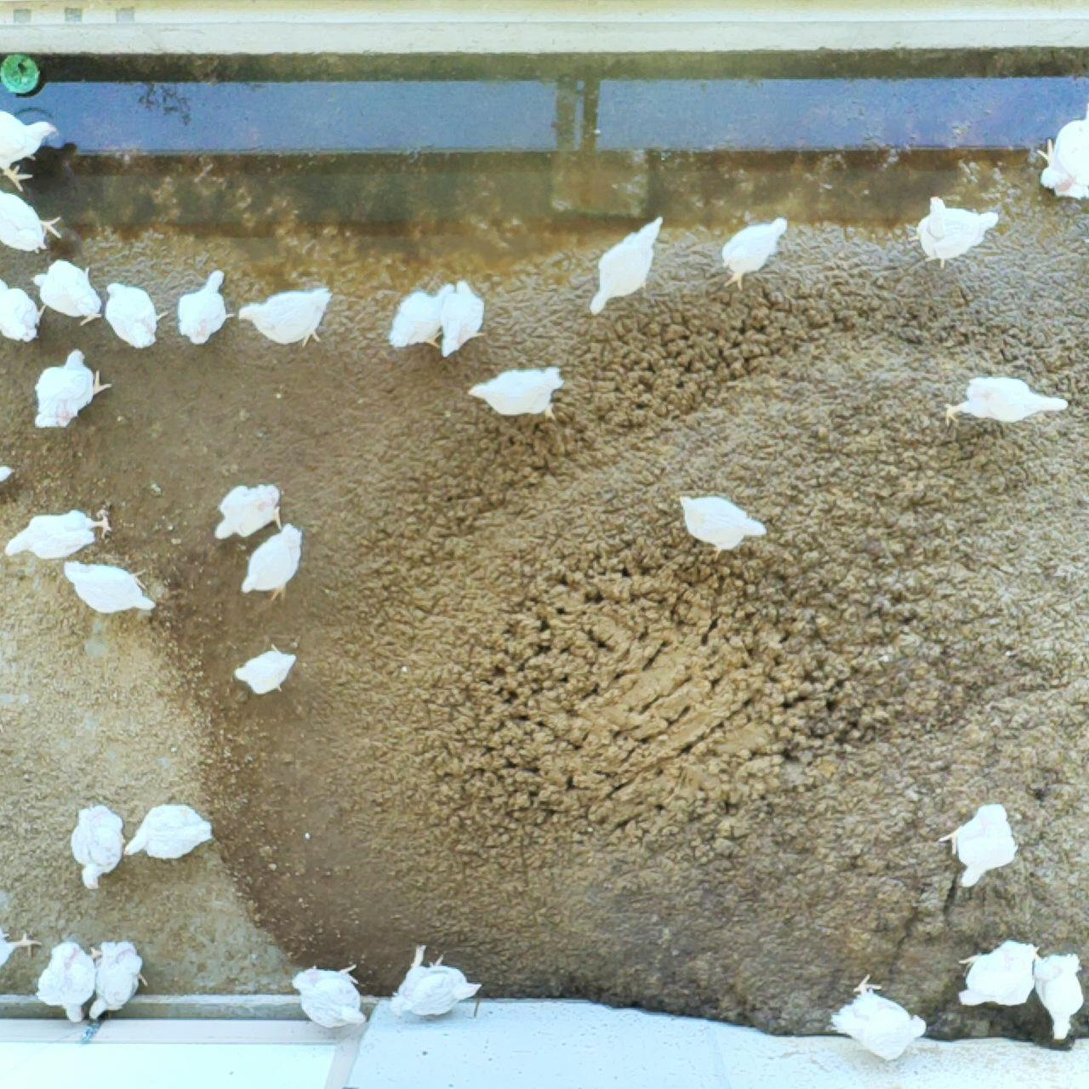chicken: (824, 971, 929, 1063), (584, 211, 668, 317), (387, 936, 482, 1021), (941, 369, 1075, 429), (934, 798, 1022, 889), (908, 191, 999, 270), (1, 501, 118, 562), (30, 344, 112, 431), (237, 279, 336, 351), (708, 207, 792, 291), (76, 934, 152, 1024), (671, 492, 769, 560), (123, 801, 216, 869), (950, 936, 1038, 1007), (464, 363, 568, 422), (59, 556, 161, 616), (239, 520, 309, 607), (290, 960, 372, 1033), (31, 939, 100, 1025), (384, 279, 466, 351), (1026, 949, 1089, 1042), (66, 801, 131, 891), (1034, 103, 1089, 205), (96, 276, 171, 349), (0, 104, 59, 196), (30, 254, 103, 327), (211, 479, 287, 549), (433, 277, 490, 362), (177, 269, 237, 349), (0, 188, 66, 260), (231, 641, 300, 698), (0, 273, 45, 346), (0, 912, 44, 978), (0, 453, 14, 492)
